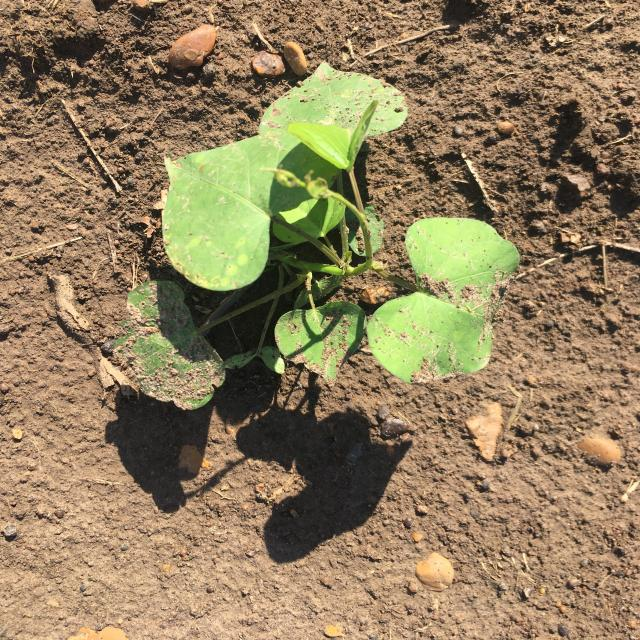MorningGlory: (113, 62, 519, 410)
